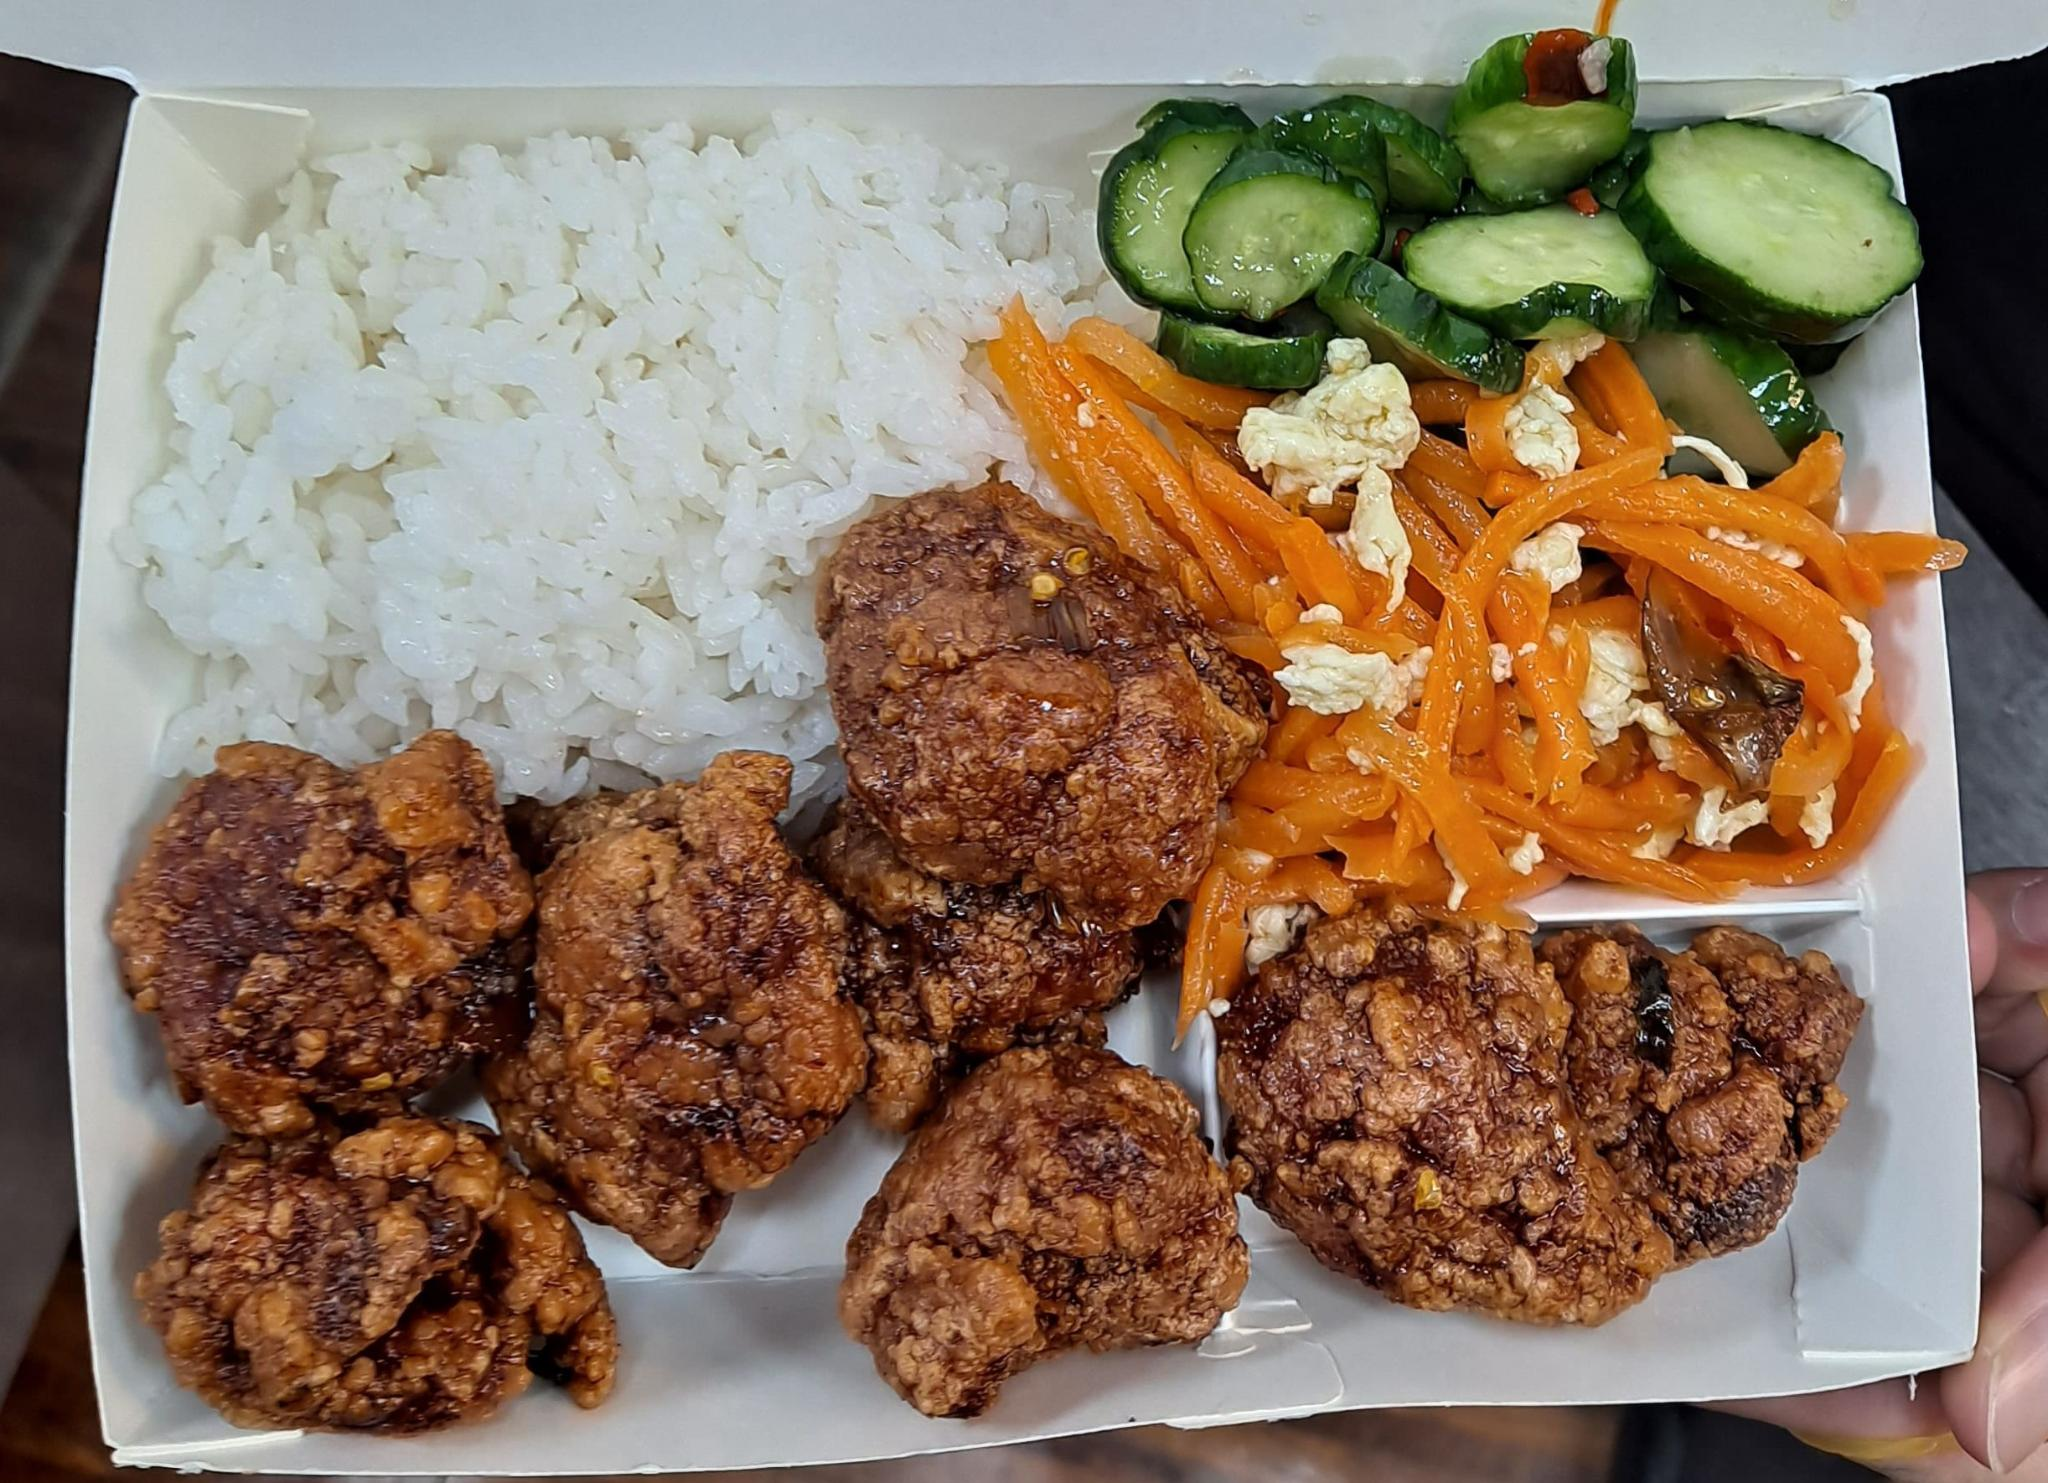big grilled chicken leg: (33, 14, 2000, 1475)
big herbal chicken leg: (127, 111, 1080, 795)
braised fish fillet: (987, 299, 1929, 936), (1096, 40, 1911, 461)
braised pork: (113, 461, 1862, 1453)
